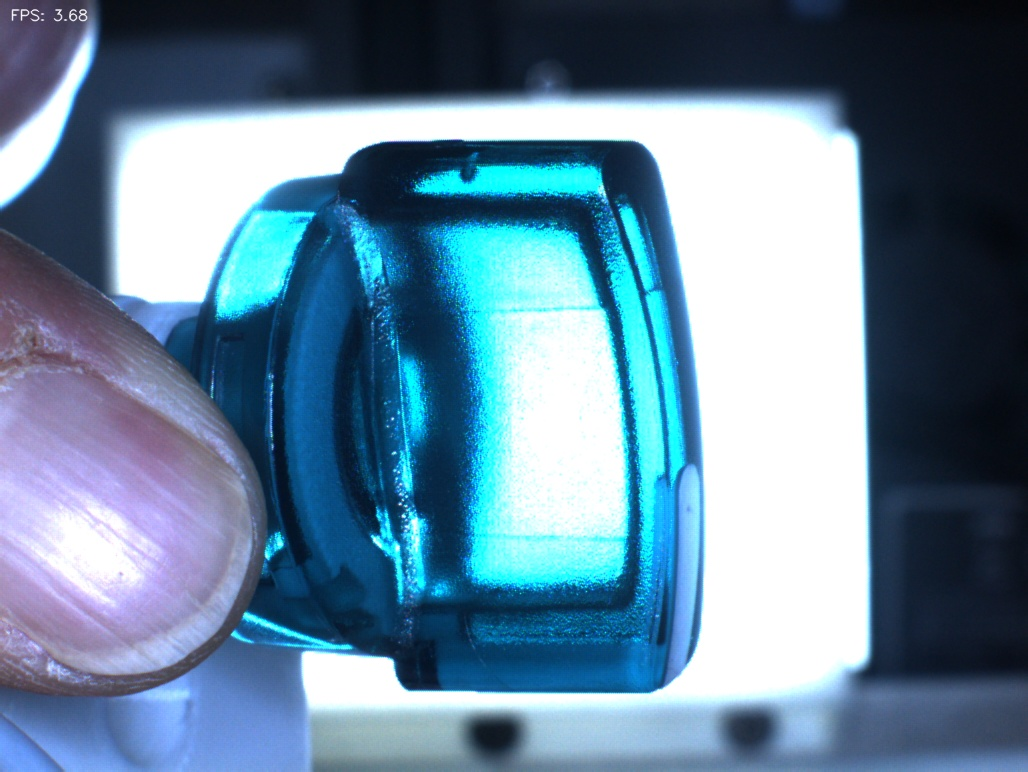Bulle: (438, 121, 507, 215)
